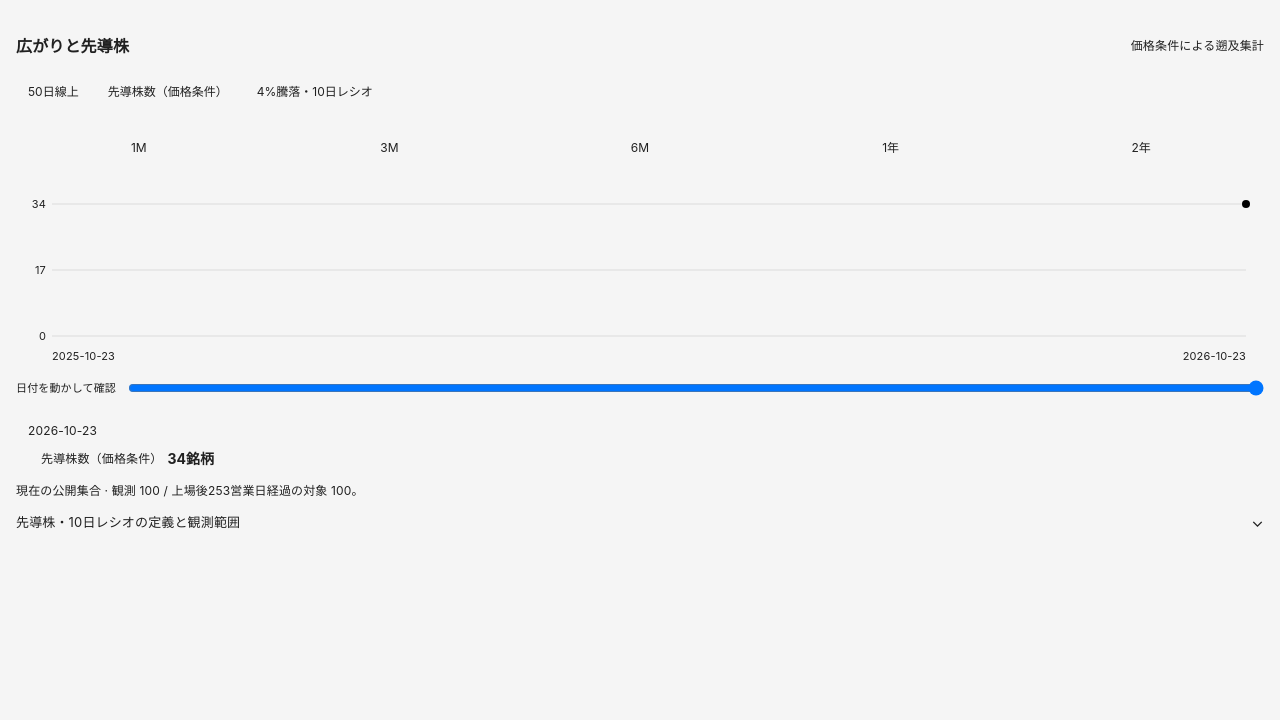
Test case: long market history controls › shows actual two-year history, labels price-only leaders and retains unknowns
Click the button "2年".
click(1141, 148)  # box [1018,126,1264,170]
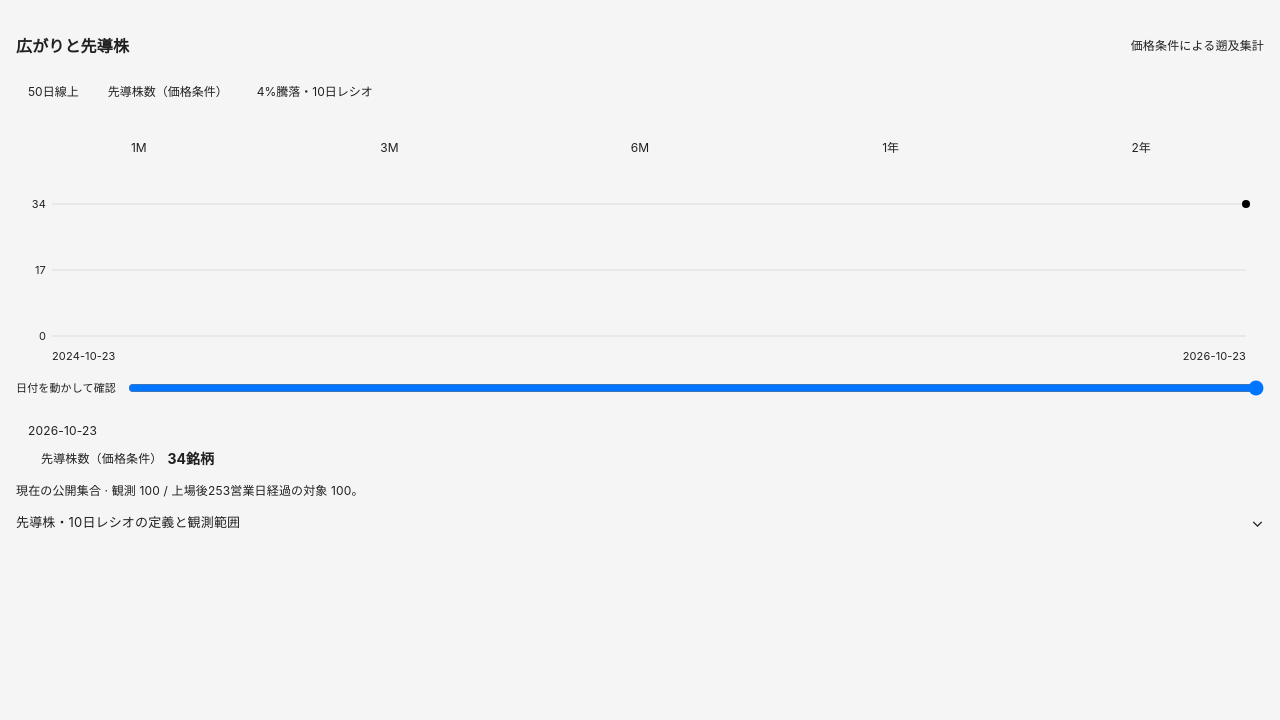
Set the slider to "0" at (136, 388), box [128,366,1264,410]
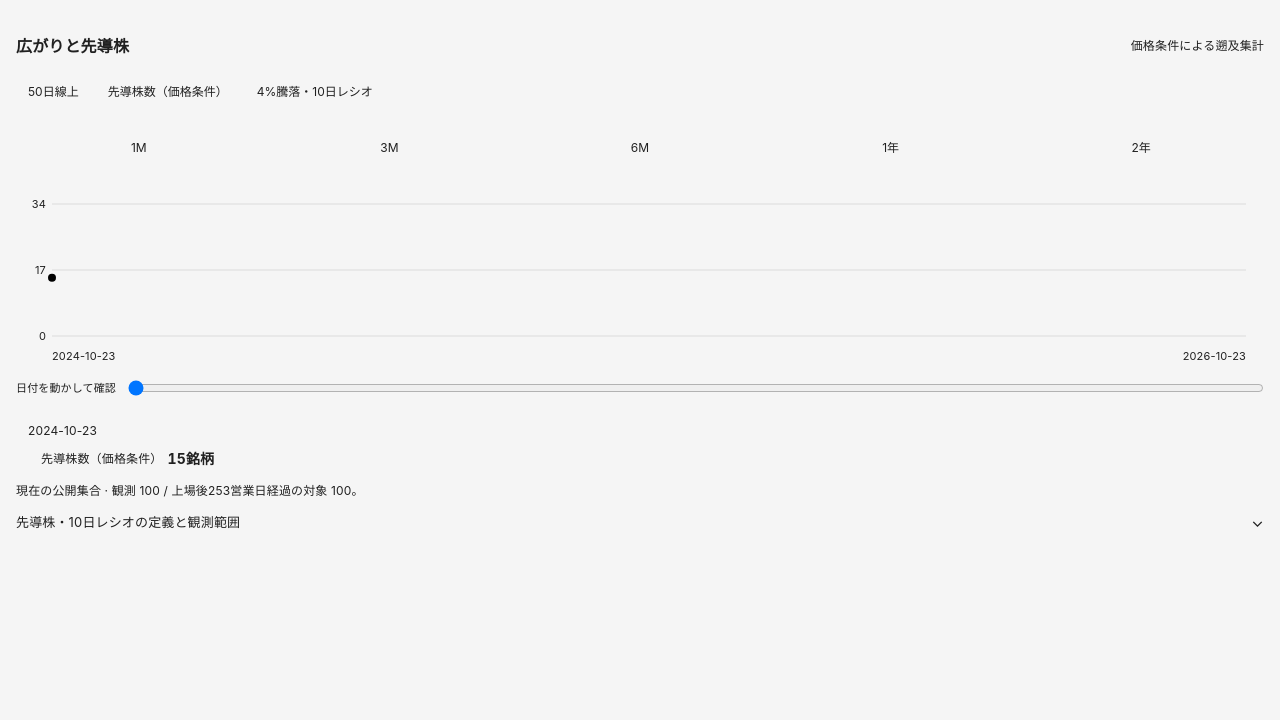
Now the text "15銘柄" is shown, box [168,448,214,469]
